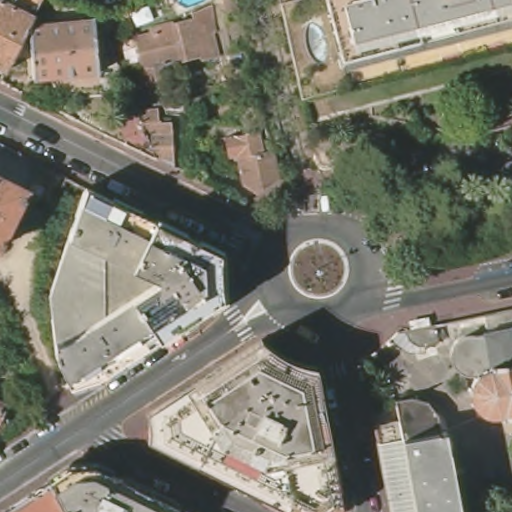pool: (172, 1, 211, 11)
